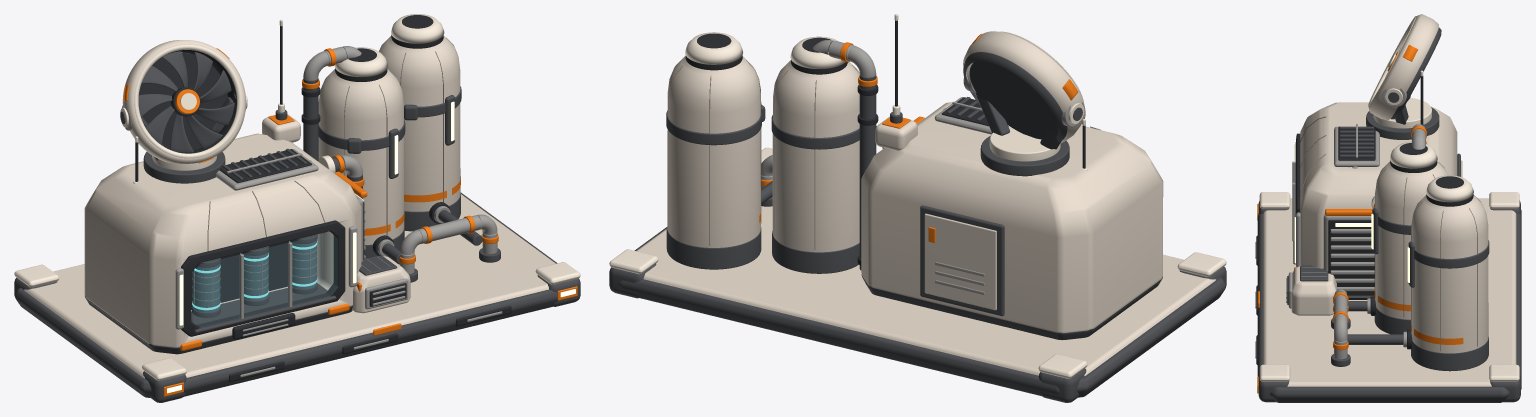
The model's file is life-support-reference-module.glb.
The picture shows the model from 3 angles, left to right: view 1: azimuth 30°, elevation 25°; view 2: azimuth 150°, elevation 25°; view 3: azimuth 270°, elevation 25°; orthographic projection. The views are drawn at different scales.
Visible parts, largest first — view 1: Filtration cabinet pressure shell, Ivory foundation perimeter deck, Clear blue processing display window, Tank A ivory pressure shell, Tank B ivory pressure shell, Graphite foundation lower frame, Processing window graphite frame, Ivory annular fan shroud, Fan dark rear duct disk, Window cavity bottom tray, Window cavity dark back panel, Fan front ivory rolled lip (+25 smaller); view 2: Filtration cabinet pressure shell, Ivory foundation perimeter deck, Tank B ivory pressure shell, Tank A ivory pressure shell, Graphite foundation lower frame, Cabinet rear ivory service panel, Fan dark rear duct disk, Ivory annular fan shroud, Cabinet rear service-door gasket, Tank graphite lower mounting sleeve.001, Cabinet graphite lower skirt, Tank graphite lower mounting sleeve (+16 smaller); view 3: Ivory foundation perimeter deck, Tank B ivory pressure shell, Filtration cabinet pressure shell, Graphite foundation lower frame, Tank A ivory pressure shell, Ivory annular fan shroud, Right cabinet intake recess, Compressor ivory casing, Tank graphite lower mounting sleeve.001, Fan pedestal charcoal base, Tank cream upper vent crown.001, Fan pedestal ivory swivel (+25 smaller).
Part boxes in pixels (<box>): Filtration cabinet pressure shell: <box>84,133,361,347</box>; Ivory foundation perimeter deck: <box>24,194,555,378</box>; Clear blue processing display window: <box>193,233,337,327</box>; Tank A ivory pressure shell: <box>318,69,404,245</box>; Tank B ivory pressure shell: <box>379,36,460,211</box>; Graphite foundation lower frame: <box>15,192,557,397</box>; Processing window graphite frame: <box>181,220,345,336</box>; Ivory annular fan shroud: <box>122,40,245,163</box>; Fan dark rear duct disk: <box>139,52,227,150</box>; Window cavity bottom tray: <box>191,283,336,333</box>; Window cavity dark back panel: <box>191,241,288,309</box>; Fan front ivory rolled lip: <box>134,44,242,158</box>; Filtration cabinet pressure shell: <box>861,102,1163,332</box>; Ivory foundation perimeter deck: <box>636,206,1215,375</box>; Tank B ivory pressure shell: <box>667,56,760,247</box>; Tank A ivory pressure shell: <box>772,60,859,252</box>; Graphite foundation lower frame: <box>618,227,1225,397</box>; Cabinet rear ivory service panel: <box>924,213,996,310</box>; Fan dark rear duct disk: <box>969,61,1057,139</box>; Ivory annular fan shroud: <box>963,31,1085,143</box>; Cabinet rear service-door gasket: <box>920,205,1004,316</box>; Tank graphite lower mounting sleeve.001: <box>666,227,761,269</box>; Cabinet graphite lower skirt: <box>861,274,1162,340</box>; Tank graphite lower mounting sleeve: <box>772,231,859,273</box>; Ivory foundation perimeter deck: <box>1263,198,1516,386</box>; Tank B ivory pressure shell: <box>1411,195,1488,353</box>; Filtration cabinet pressure shell: <box>1300,102,1457,268</box>; Graphite foundation lower frame: <box>1257,210,1521,402</box>; Tank A ivory pressure shell: <box>1375,161,1448,319</box>; Ivory annular fan shroud: <box>1368,14,1438,120</box>; Right cabinet intake recess: <box>1328,220,1374,295</box>; Compressor ivory casing: <box>1291,266,1336,315</box>; Tank graphite lower mounting sleeve.001: <box>1411,337,1488,371</box>; Fan pedestal charcoal base: <box>1366,107,1439,139</box>; Tank cream upper vent crown.001: <box>1426,175,1473,202</box>; Fan pedestal ivory swivel: <box>1373,98,1431,128</box>.
Bounding box in the file's own units: 10.41 × 6.22 × 6.11.
